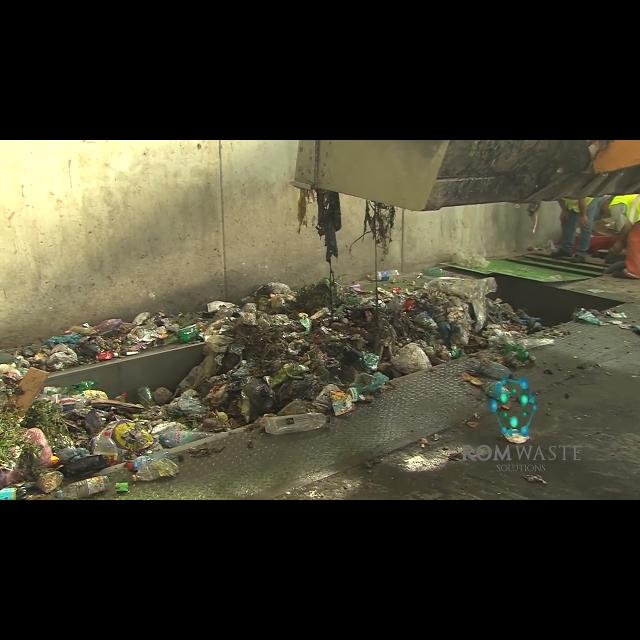trash: (262, 411, 334, 435), (57, 474, 111, 500), (130, 460, 182, 484), (158, 429, 222, 448), (470, 356, 514, 382), (90, 430, 120, 468), (126, 452, 162, 470), (174, 326, 204, 344), (365, 267, 401, 281), (0, 484, 28, 500), (419, 266, 445, 276), (114, 390, 128, 408)
